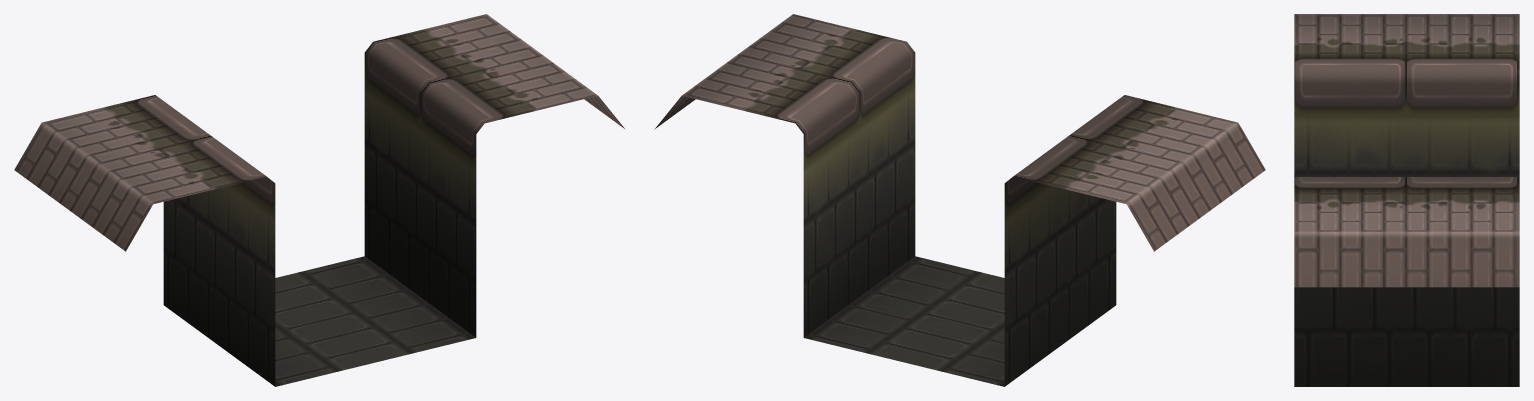
Rendered from Canal_Brick_02.FBX.
The picture shows the model from 3 angles, left to right: view 1: azimuth 30°, elevation 25°; view 2: azimuth 150°, elevation 25°; view 3: azimuth 270°, elevation 25°; orthographic projection.
Visible parts, largest first — view 1: Canal_Brick_02; view 2: Canal_Brick_02; view 3: Canal_Brick_02.
Part boxes in pixels (bbox=[...]): Canal_Brick_02: bbox=[14, 14, 625, 386]; Canal_Brick_02: bbox=[654, 14, 1265, 386]; Canal_Brick_02: bbox=[1294, 14, 1519, 386].
Bounding box in the file's own units: 212 × 85.92 × 81.83.
